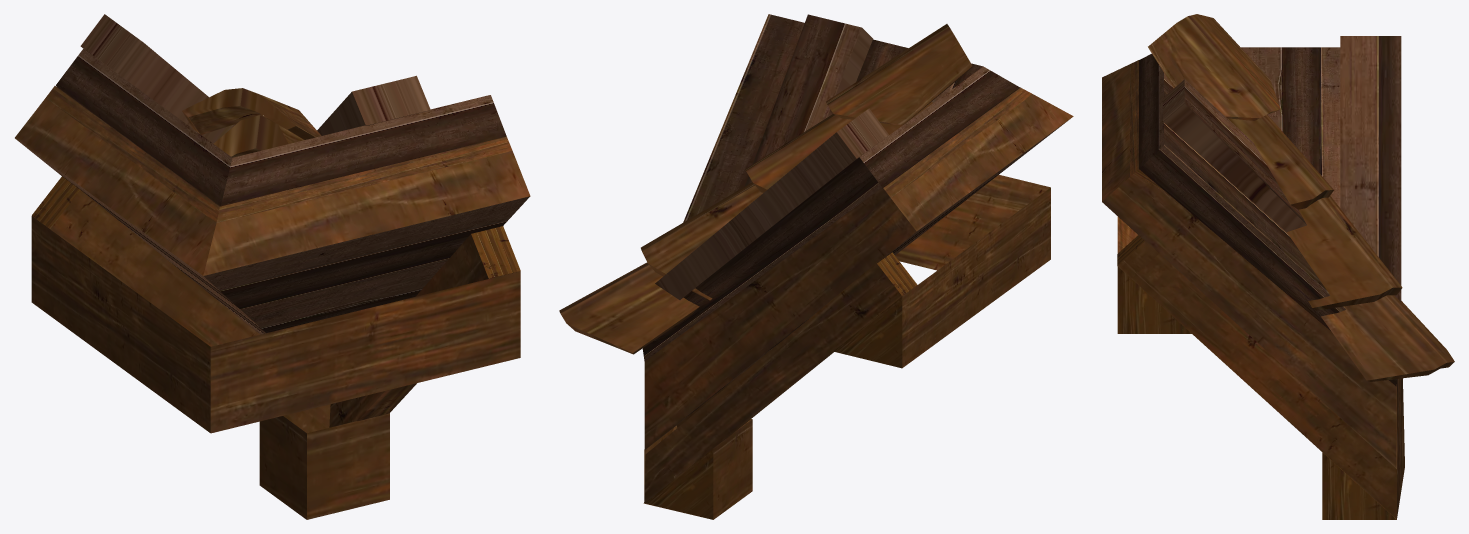
3 renders of one model, left to right at view 1: azimuth 30°, elevation 25°; view 2: azimuth 150°, elevation 25°; view 3: azimuth 270°, elevation 25°, orthographic. The views are drawn at different scales.
Parts seen in each view (by area): view 1: SM_BB_T2_Roof_Small_Valley_LOD0; view 2: SM_BB_T2_Roof_Small_Valley_LOD0; view 3: SM_BB_T2_Roof_Small_Valley_LOD0.
Part boxes in pixels (<box>): SM_BB_T2_Roof_Small_Valley_LOD0: <box>15,14,530,519</box>; SM_BB_T2_Roof_Small_Valley_LOD0: <box>559,14,1073,519</box>; SM_BB_T2_Roof_Small_Valley_LOD0: <box>1102,14,1454,519</box>.
Size of the model in its own units: 1.22 by 1.53 by 1.18.
2 materials, 2 textured.
